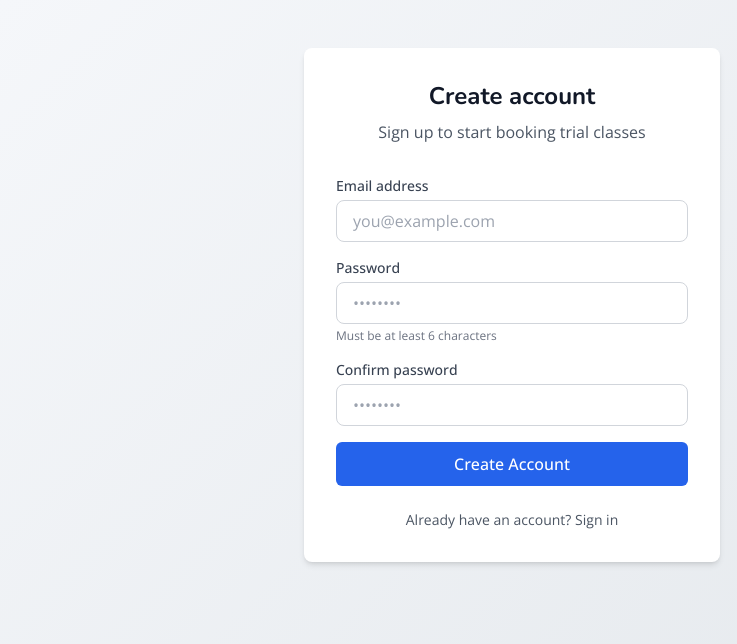
Test: LR-SU client-side validation (decision table) › LR-SU-010: mismatched short passwords → 'Passwords do not match', no signUp
The image size is (737, 644).
Type "a@b.co" into the field labelled "Email address" at coordinates (512, 221), box [336,200,688,242]
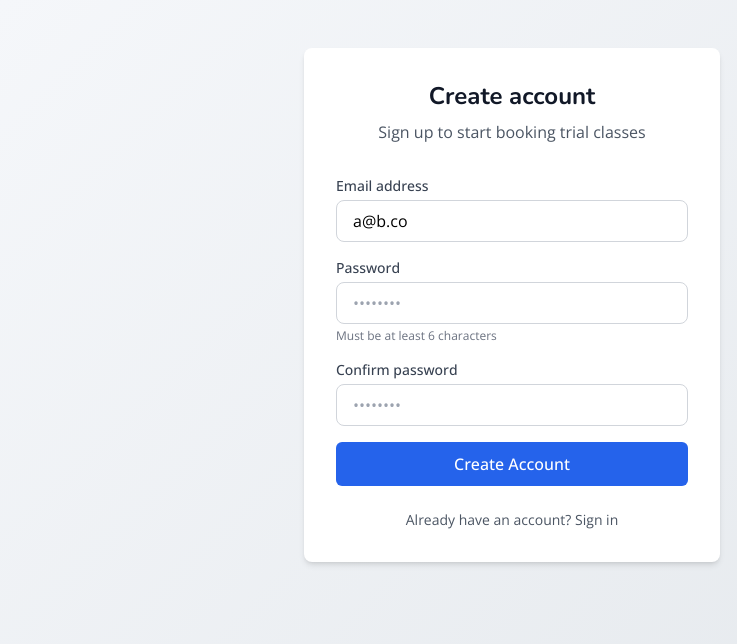
Type "abc" into the password field labelled "Password" at coordinates (512, 303), box [336,282,688,324]
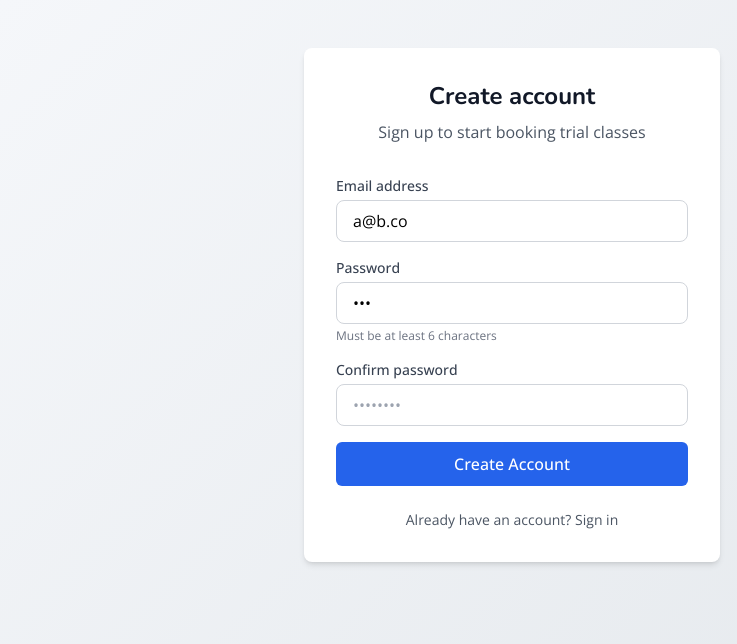
Type "xyz" into the password field labelled "Confirm password" at coordinates (512, 405), box [336,384,688,426]
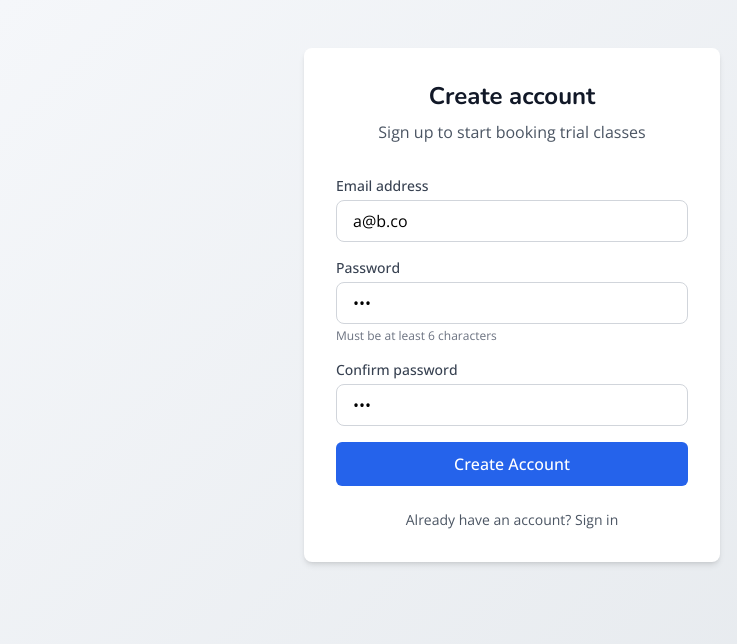
Submit the form, box [336,176,688,486]
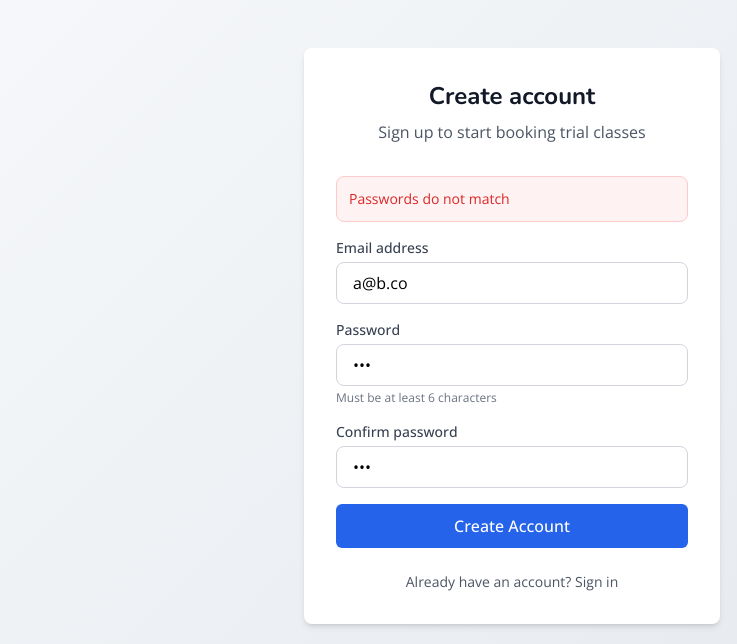
Result: the text "Passwords do not match" is shown at [349,189,510,208]
